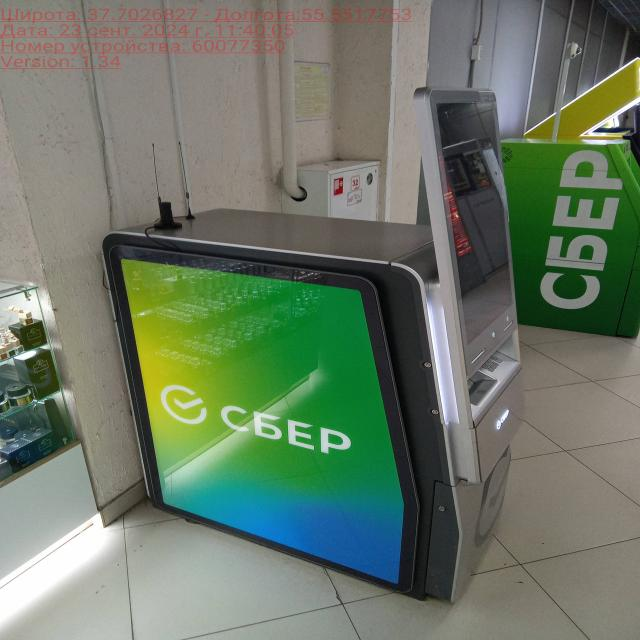bank: (106, 82, 519, 600), (490, 135, 640, 340)
